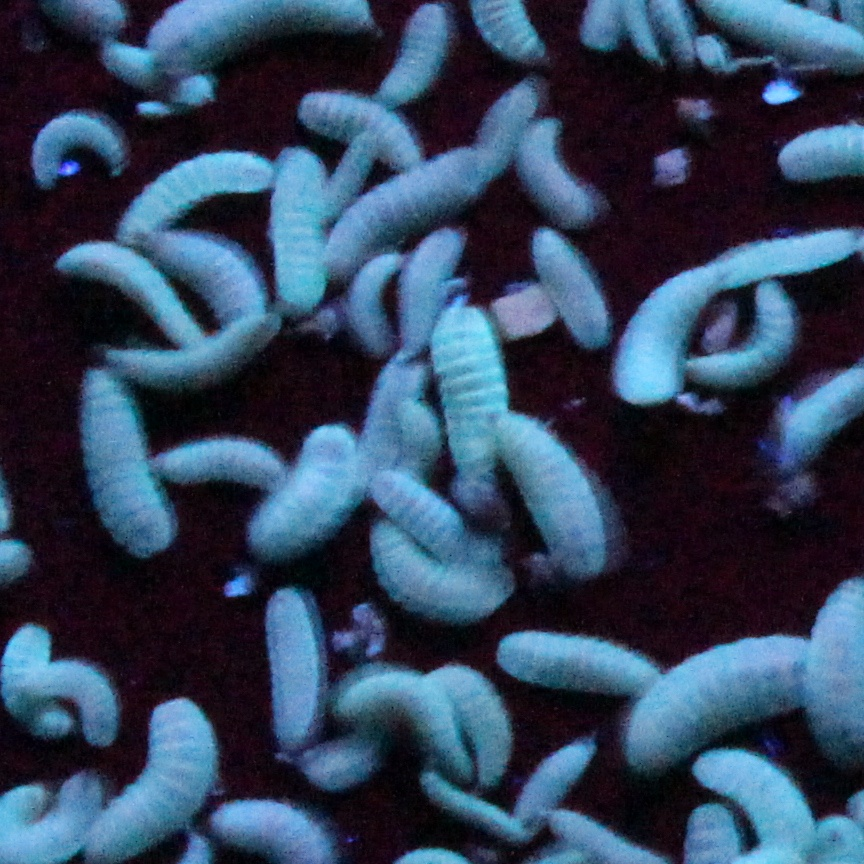larve: (618, 632, 824, 769), (493, 410, 614, 585), (323, 148, 489, 265), (81, 368, 176, 560), (53, 239, 206, 350), (243, 424, 368, 559), (104, 305, 282, 396), (336, 664, 475, 777), (428, 295, 511, 476), (368, 522, 518, 621), (692, 748, 820, 861), (118, 151, 274, 242), (613, 259, 710, 404), (372, 472, 502, 568), (683, 282, 795, 390), (491, 629, 668, 697), (145, 231, 264, 328), (428, 662, 513, 784), (263, 584, 321, 760), (299, 90, 426, 170), (704, 226, 856, 292), (354, 345, 424, 485), (534, 225, 609, 351), (23, 658, 124, 751), (145, 432, 288, 495), (0, 619, 75, 738), (519, 120, 599, 228), (33, 106, 126, 192), (374, 0, 443, 112), (98, 39, 213, 105), (424, 779, 536, 845), (301, 710, 386, 791), (308, 127, 375, 229), (474, 85, 538, 181), (518, 747, 589, 828), (353, 254, 401, 357), (394, 400, 438, 478)
